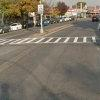Crosswalk: (5, 31, 100, 57)
